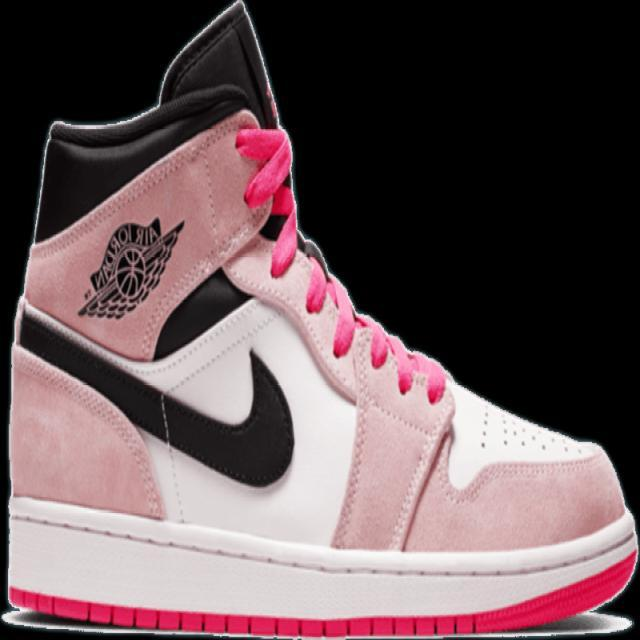J1_InsoleChar: (2, 0, 638, 638)
J1_ShoeLogo: (75, 215, 185, 320)
J1_StitchPattern: (291, 227, 601, 547), (232, 120, 448, 408), (14, 294, 296, 489), (6, 501, 637, 583), (384, 396, 594, 551), (295, 229, 448, 406), (11, 592, 483, 639), (457, 383, 601, 480), (233, 122, 301, 278), (350, 311, 447, 407), (386, 419, 454, 552), (295, 232, 359, 360), (473, 400, 589, 459), (474, 403, 492, 451)
